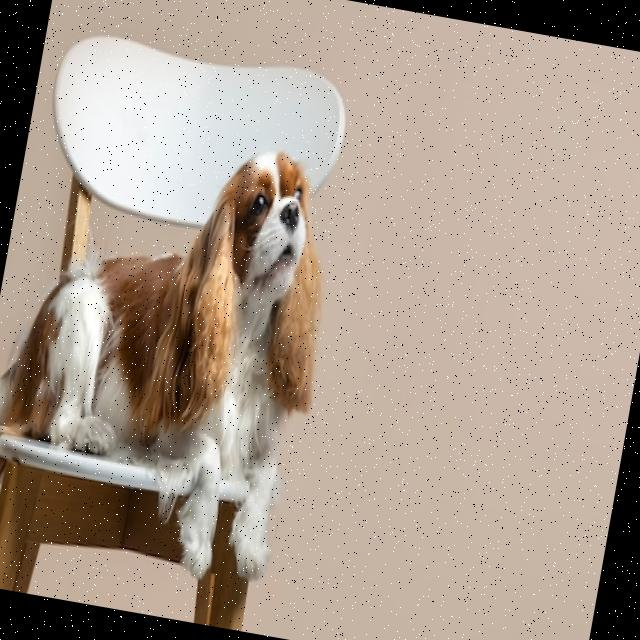Dog: (0, 106, 352, 630)
